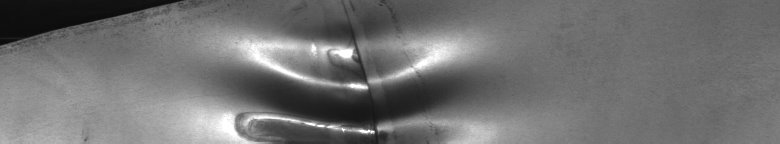ke: (235, 32, 428, 136)
